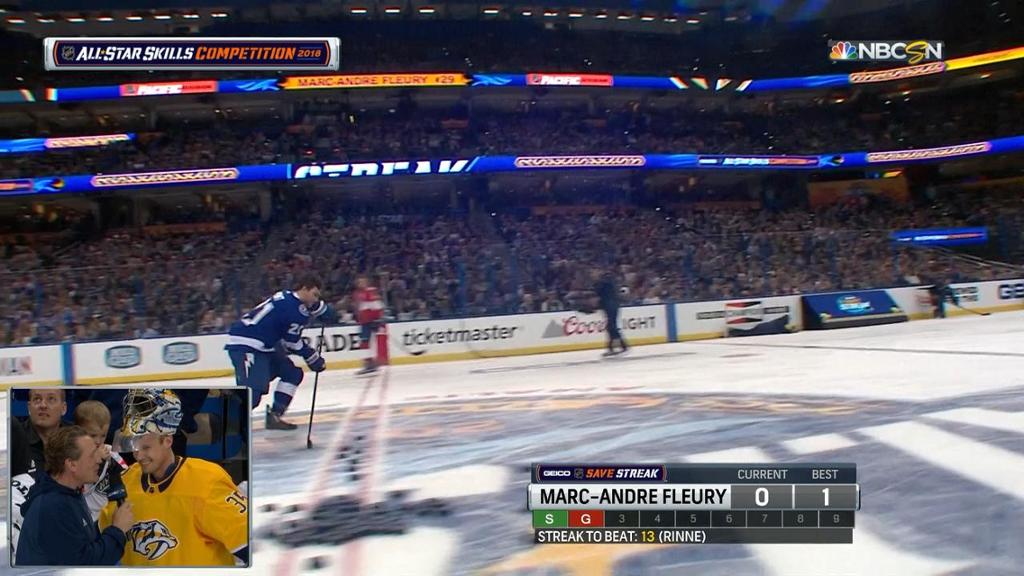geico: (995, 274, 1023, 309)
